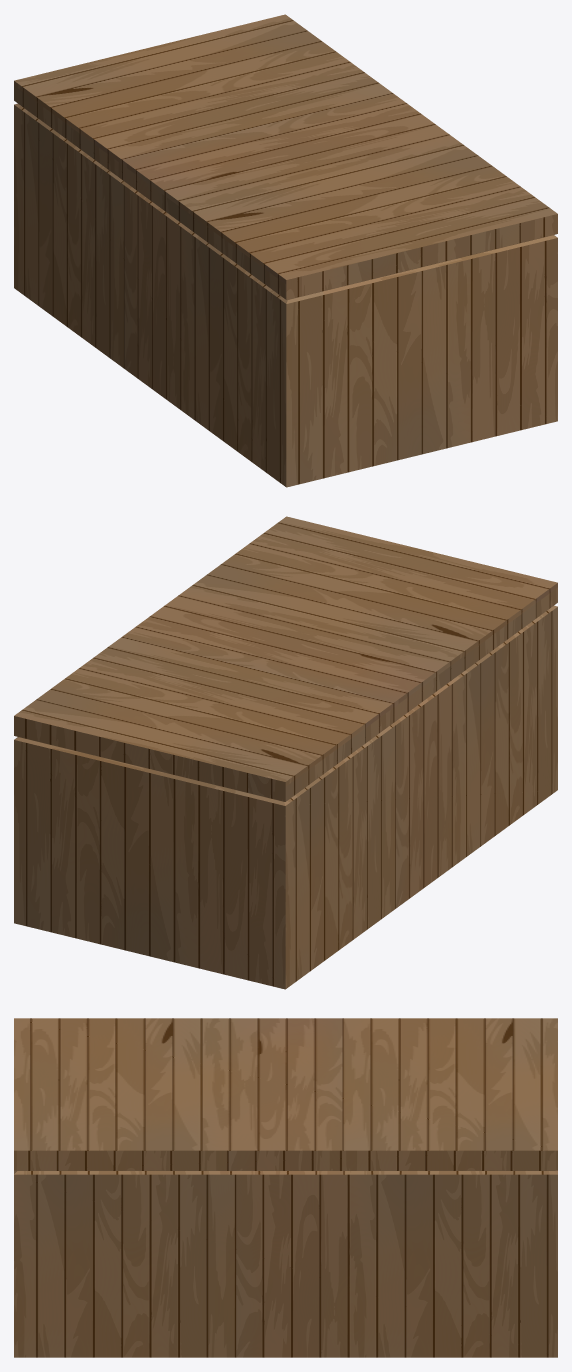
File: SM_wooden_box.fbx
The picture shows the model from 3 angles, top to bottom: view 1: azimuth 30°, elevation 25°; view 2: azimuth 150°, elevation 25°; view 3: azimuth 270°, elevation 25°; orthographic projection.
Visible parts, largest first — view 1: wooden_box; view 2: wooden_box; view 3: wooden_box.
Part boxes in pixels (x1,y1,x2,y2): wooden_box: [14, 14, 557, 487]; wooden_box: [14, 516, 557, 989]; wooden_box: [14, 1018, 557, 1357].
Bounding box in the file's own units: 47.89 × 34.96 × 83.25.
